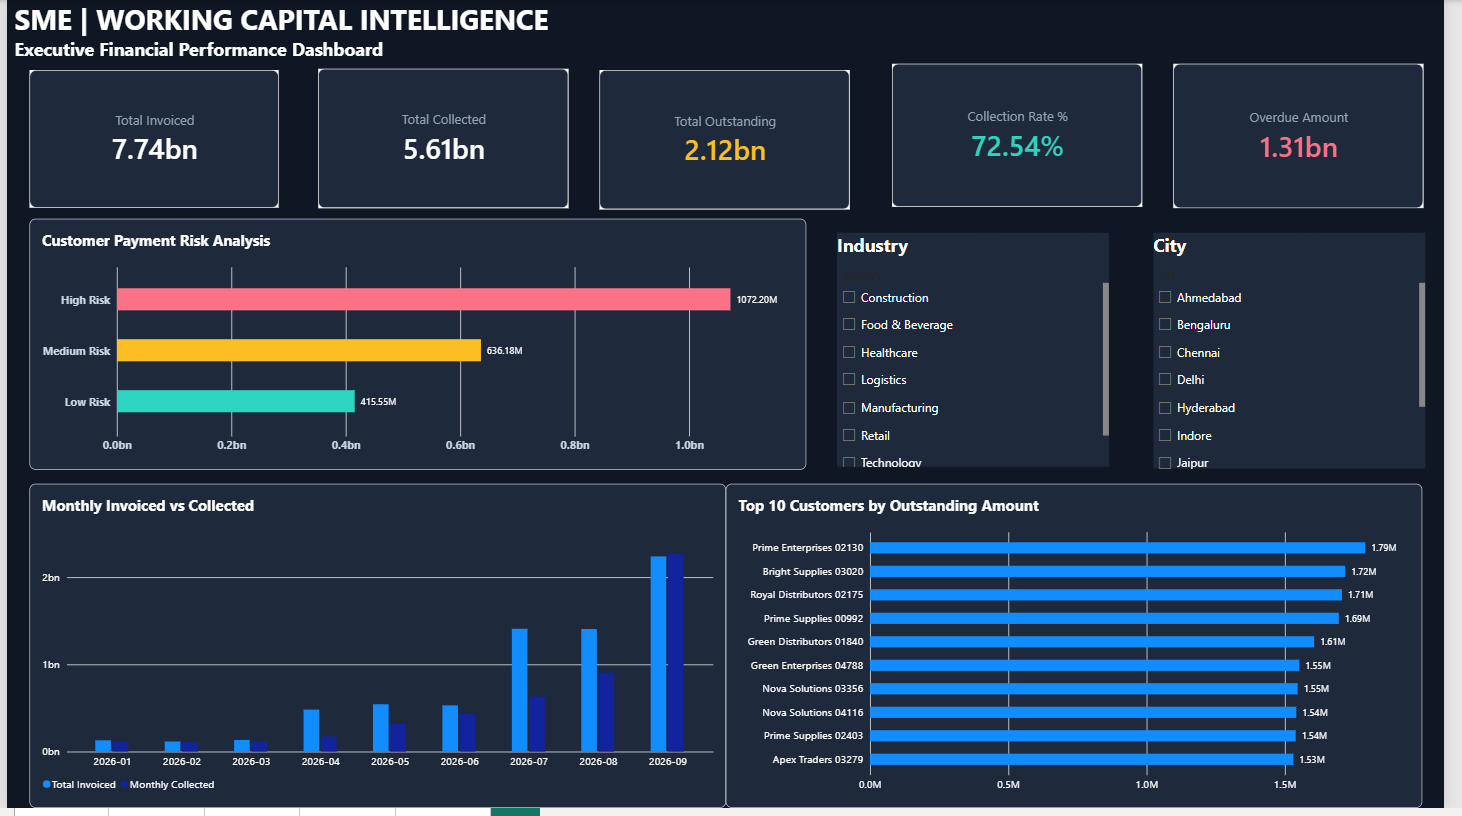

The dashboard page shown, as its layout file describes it:
{"tool":"powerbi","page":{"name":"Page 1","canvas":[1920,1080],"ordinal":0},"visuals":[{"type":"textbox","box":[10.3,0,1280.3,185.2],"z":0},{"type":"cardVisual","fields":{"Data":["sme_working_capital customers.Total Invoiced"]},"box":[30.4,93.5,333.9,184.3],"z":1000},{"type":"cardVisual","fields":{"Data":["sme_working_capital payments.Total Collected"]},"box":[415.2,91.3,334.8,187],"z":2000},{"type":"cardVisual","fields":{"Data":["sme_working_capital customers.Total Outstanding"]},"box":[792,94,334.8,187],"z":3000},{"type":"cardVisual","fields":{"Data":["sme_working_capital customers.Collection Rate %"]},"box":[1182.6,84.8,334.8,191.3],"z":4000},{"type":"cardVisual","fields":{"Data":["sme_working_capital customers.Overdue Amount"]},"box":[1558.7,84.8,334.8,193.5],"z":4001},{"type":"clusteredBarChart","title":"Customer Payment Risk Analysis","fields":{"Category":["sme_working_capital vw_customer_payment_risk.risk_category"],"Y":["Sum(sme_working_capital vw_customer_payment_risk.total_outstanding)"]},"box":[30,292.5,1037.5,335],"z":4002},{"type":"slicer","title":"City","fields":{"Values":["sme_working_capital customers.city"]},"box":[1530.4,310.9,363,315.2],"z":4003},{"type":"slicer","title":"Industry","fields":{"Values":["sme_working_capital customers.industry"]},"box":[1108.7,310.9,363,313],"z":4004},{"type":"clusteredBarChart","title":"Top 10 Customers by Outstanding Amount","fields":{"Category":["sme_working_capital vw_customer_payment_risk.customer_name"],"Y":["Sum(sme_working_capital vw_customer_payment_risk.total_outstanding)"]},"box":[960.9,645.7,930.4,432.6],"z":4006},{"type":"clusteredColumnChart","title":"Monthly Invoiced vs Collected","fields":{"Category":["Calendar.YearMonth"],"Y":["sme_working_capital customers.Total Invoiced","Calendar.Monthly Collected"]},"box":[30.4,645.7,930.4,432.6],"z":4007}]}

Visuals, with their boxes in screenshot pixels (x1, y1, x2, y2), scaled from the page's 1920x1080 canvas onto the 1462x816 screenshot:
textbox: x1=8 y1=0 x2=983 y2=140
cardVisual - sme_working_capital customers.Total Invoiced: x1=23 y1=71 x2=277 y2=210
cardVisual - sme_working_capital payments.Total Collected: x1=316 y1=69 x2=571 y2=210
cardVisual - sme_working_capital customers.Total Outstanding: x1=603 y1=71 x2=858 y2=212
cardVisual - sme_working_capital customers.Collection Rate %: x1=901 y1=64 x2=1155 y2=209
cardVisual - sme_working_capital customers.Overdue Amount: x1=1187 y1=64 x2=1442 y2=210
"Customer Payment Risk Analysis" clusteredBarChart: x1=23 y1=221 x2=813 y2=474
"City" slicer: x1=1165 y1=235 x2=1442 y2=473
"Industry" slicer: x1=844 y1=235 x2=1121 y2=471
"Top 10 Customers by Outstanding Amount" clusteredBarChart: x1=732 y1=488 x2=1440 y2=815
"Monthly Invoiced vs Collected" clusteredColumnChart: x1=23 y1=488 x2=732 y2=815
